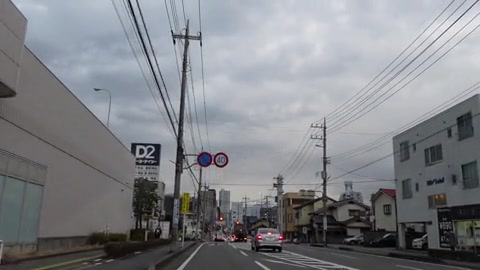traffic_sign: (197, 149, 213, 170), (213, 150, 229, 170)
